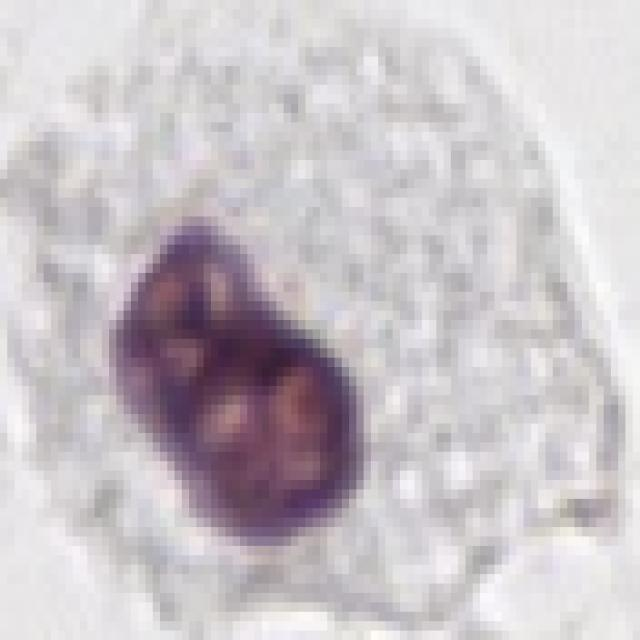nucleus: (56, 214, 408, 581)
